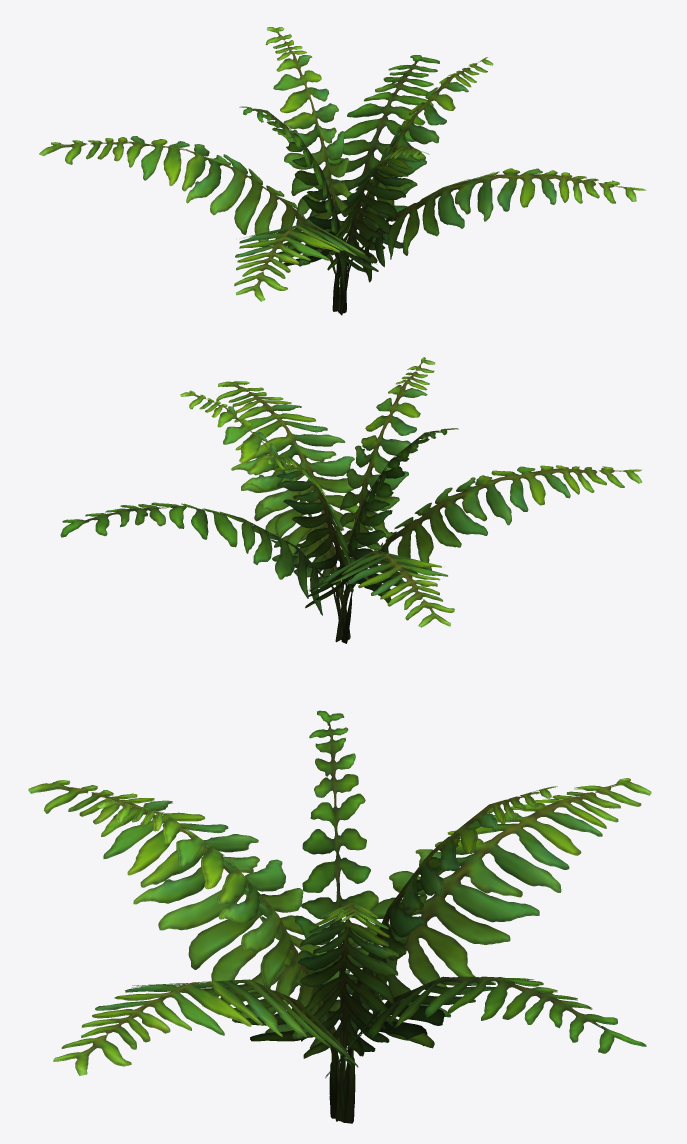
Rendered from yewai_01_cao_06.FBX.
3 views of the same model, one above another, from view 1: azimuth 30°, elevation 25°; view 2: azimuth 150°, elevation 25°; view 3: azimuth 270°, elevation 25° (orthographic). The views are drawn at different scales.
Parts seen in each view (by area): view 1: polySurface21; view 2: polySurface21; view 3: polySurface21.
Part boxes in pixels (x1,y1,x2,y2): polySurface21: [39, 27, 646, 315]; polySurface21: [60, 357, 641, 643]; polySurface21: [28, 710, 651, 1123].
Bounding box in the file's own units: 128 × 67.87 × 114.
1 material, 1 textured.
